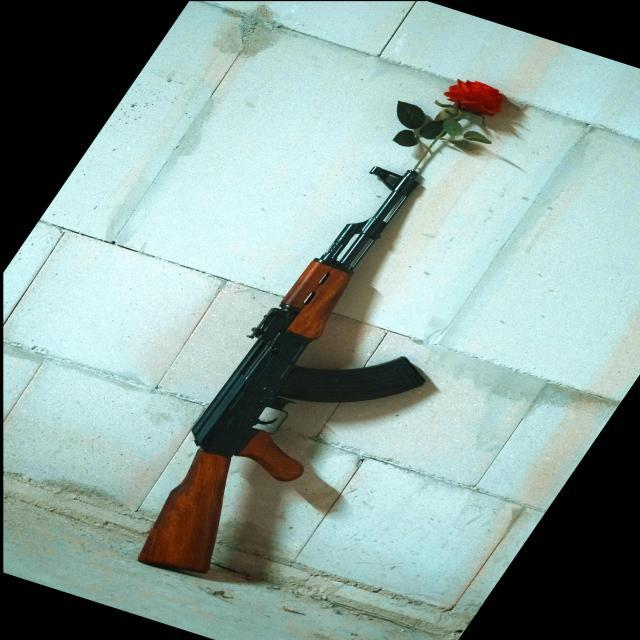weapon: (138, 166, 426, 574)
